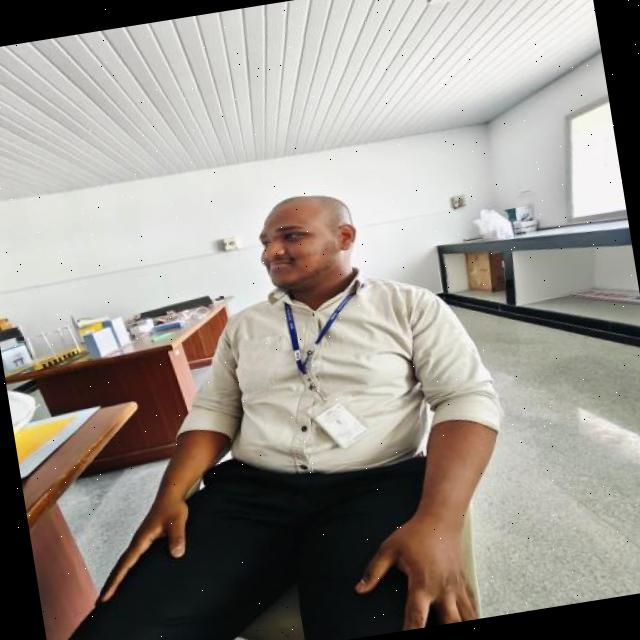Card: (309, 402, 365, 447)
Id strap: (284, 303, 310, 375)
